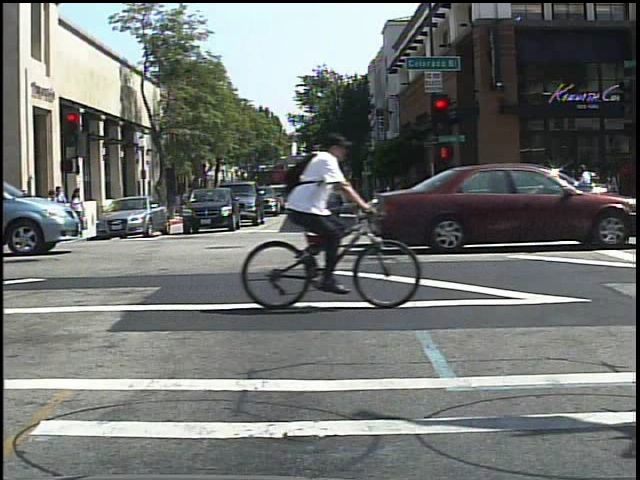person: (280, 123, 365, 302), (576, 159, 602, 224)
